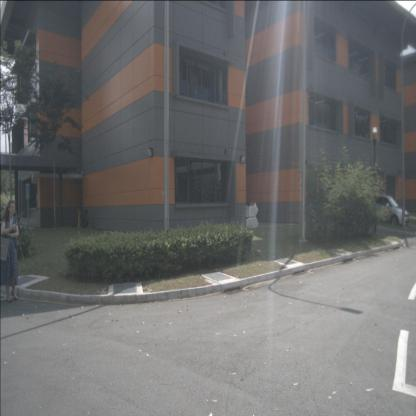human-pedestrian-adult: (0, 199, 21, 303), (80, 209, 89, 230)
movable_object-trafficcone: (77, 212, 82, 229)
vehicle-car: (367, 194, 409, 227)
